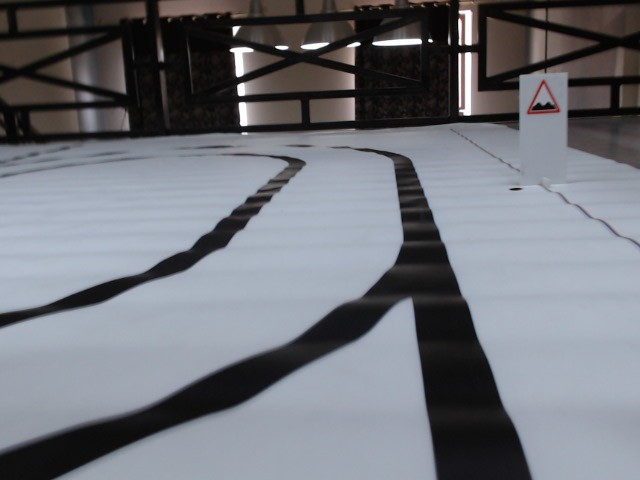Nerov: (525, 77, 563, 117)
